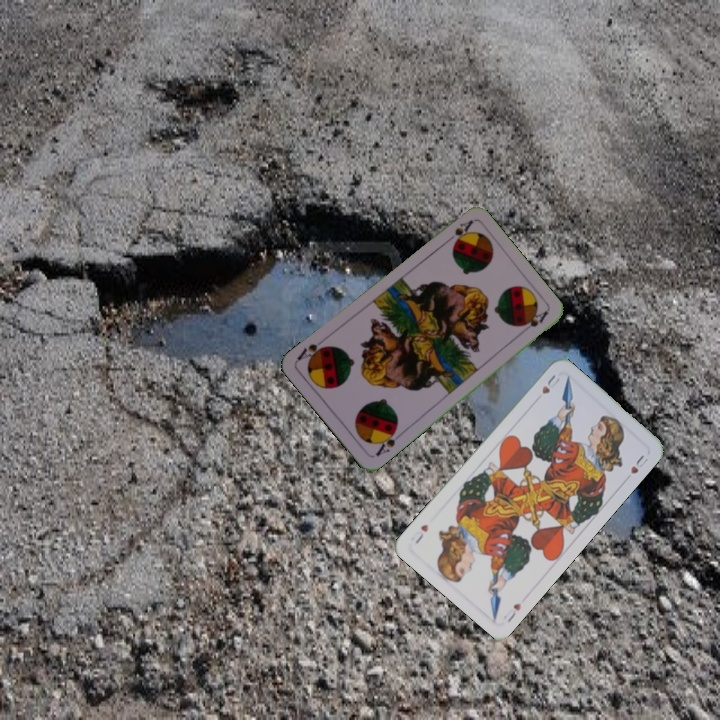HU: (538, 370, 563, 397), (503, 599, 524, 625)
SA: (371, 424, 405, 459), (440, 216, 475, 246)
